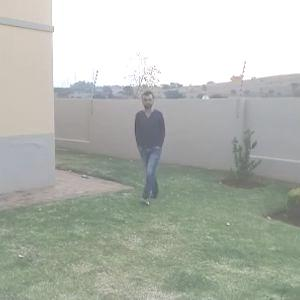follow: (128, 89, 166, 201)
